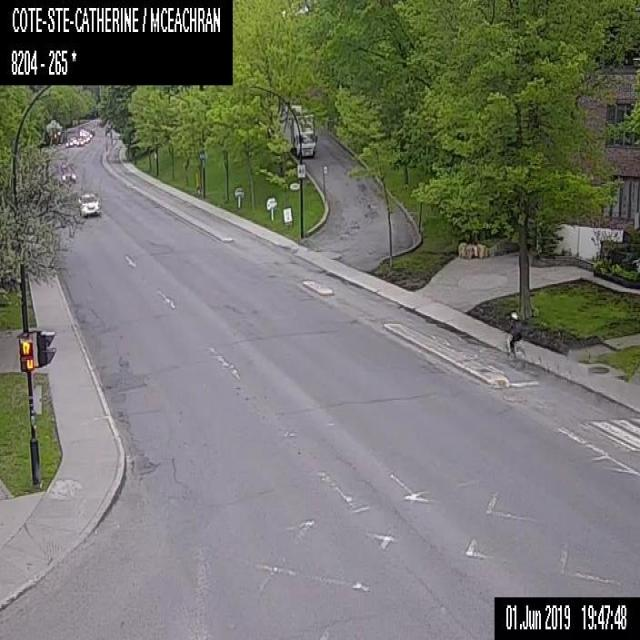vehicle: (291, 110, 315, 158), (77, 191, 101, 216), (61, 166, 76, 182), (64, 138, 72, 147), (76, 137, 83, 145), (69, 136, 76, 144), (80, 135, 87, 142), (85, 131, 92, 137), (81, 129, 88, 135), (84, 133, 90, 140), (79, 128, 84, 134)
